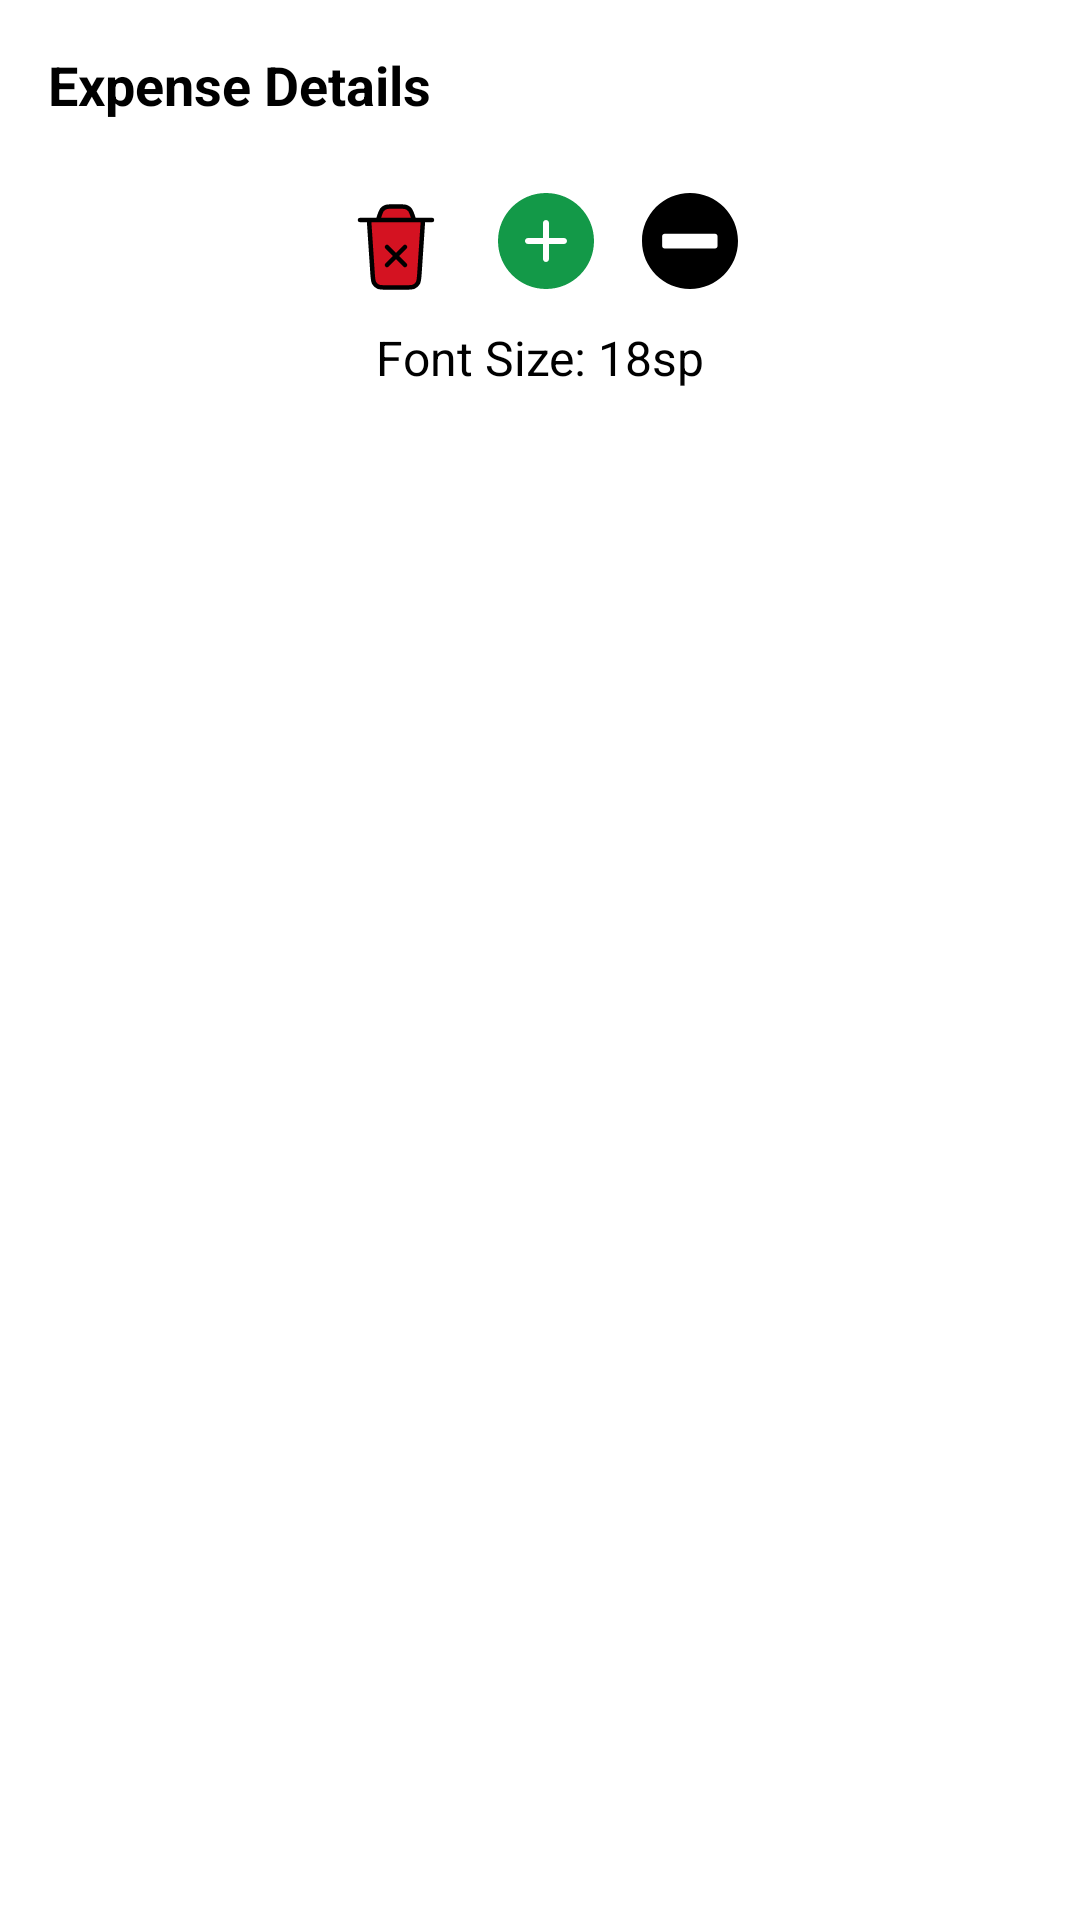

Screen size 1080w x 1920h. Icon name, then its center in pixels as (x=x, y=y):
minus: (x=690, y=241)
plus: (x=546, y=241)
trash: (x=395, y=247)
